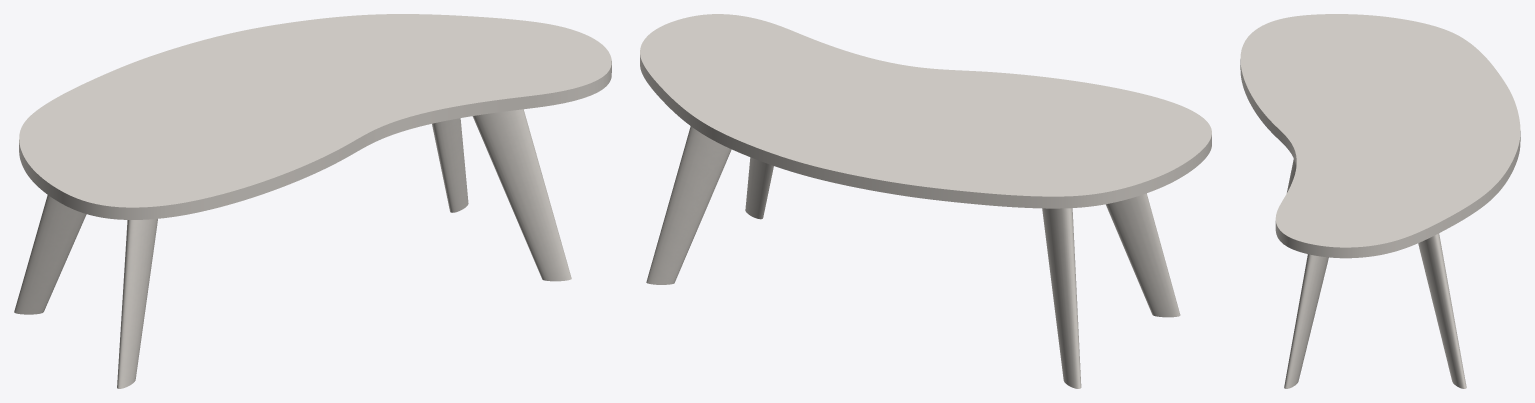
The model's file is pearlwhite_leaf1_standard_ferdinantwalnut.glb.
3 views of the same model, side by side, from view 1: azimuth 30°, elevation 25°; view 2: azimuth 150°, elevation 25°; view 3: azimuth 270°, elevation 25° (orthographic). The views are drawn at different scales.
Visible parts, largest first — view 1: standard_leaf1, ferdinandwalnut; view 2: standard_leaf1, ferdinandwalnut; view 3: standard_leaf1, ferdinandwalnut.
Part boxes in pixels (box(x1,y1,x2,y2)): standard_leaf1: box(19, 14, 611, 219); ferdinandwalnut: box(14, 109, 571, 388); standard_leaf1: box(640, 14, 1211, 208); ferdinandwalnut: box(646, 126, 1180, 388); standard_leaf1: box(1240, 14, 1520, 258); ferdinandwalnut: box(1284, 159, 1466, 388).
Bounding box in the file's own units: 7.5 × 2.51 × 3.8.
1 material, 1 textured.
